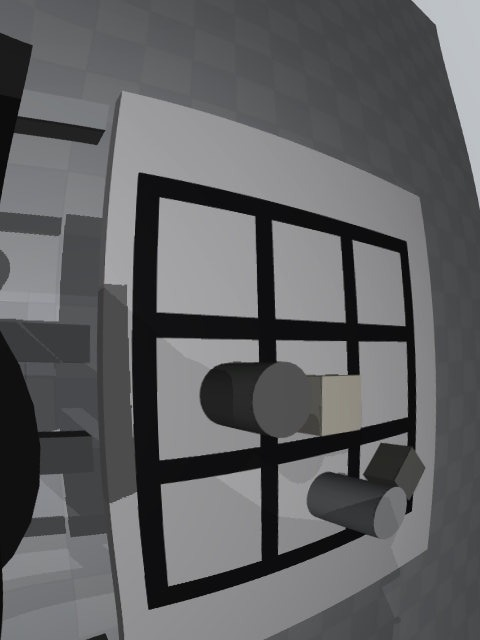can: (306, 471, 407, 540)
cube: (363, 443, 425, 501)
cylinder: (200, 361, 312, 438)
foam: (298, 375, 362, 437)
